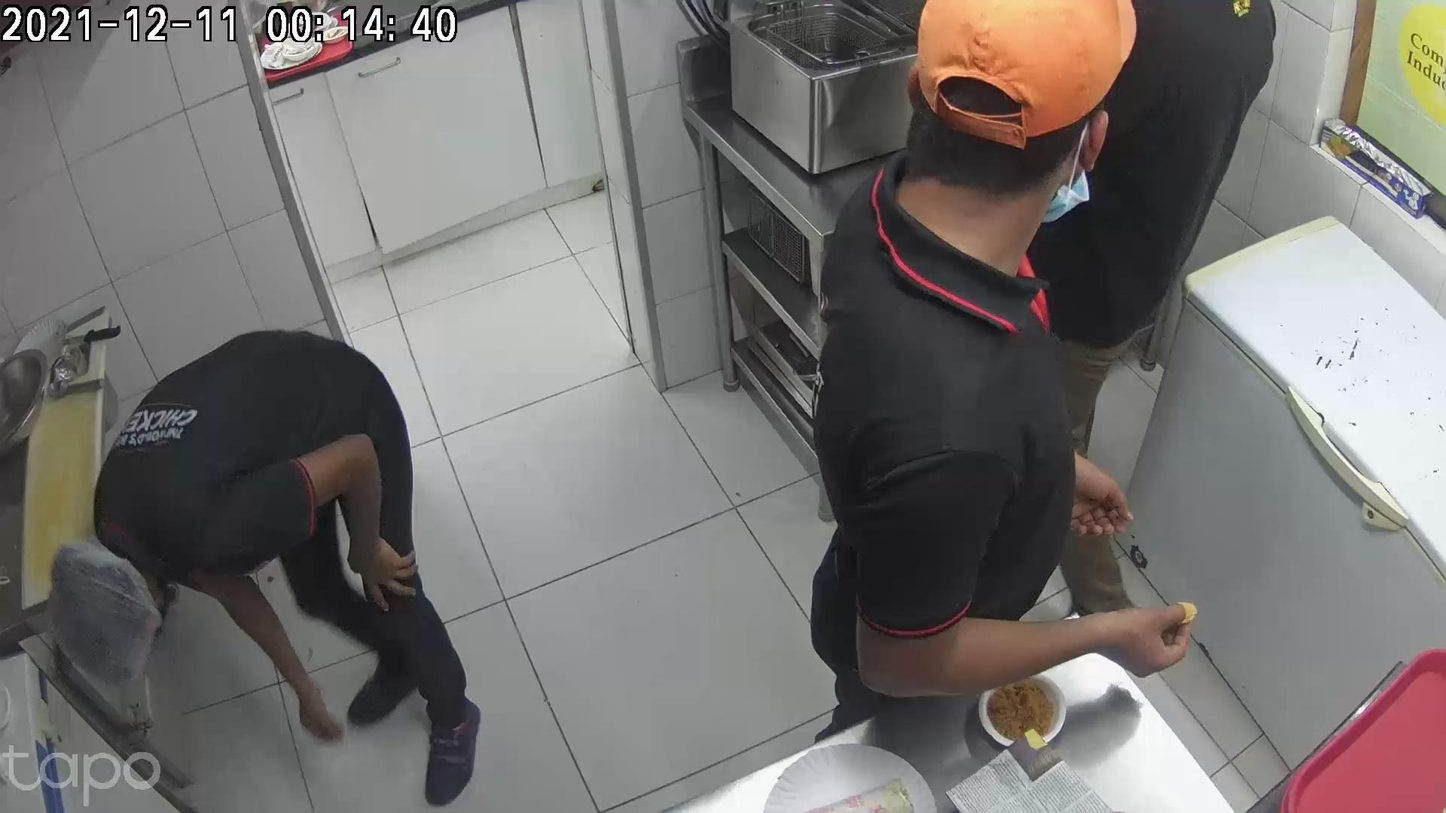no_gloves: (872, 619, 992, 778)
